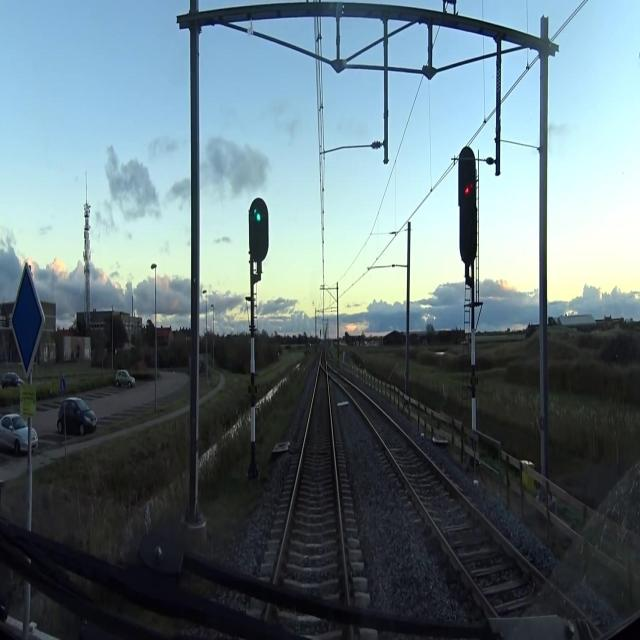rail-track: (328, 369, 576, 618), (278, 369, 345, 598)
